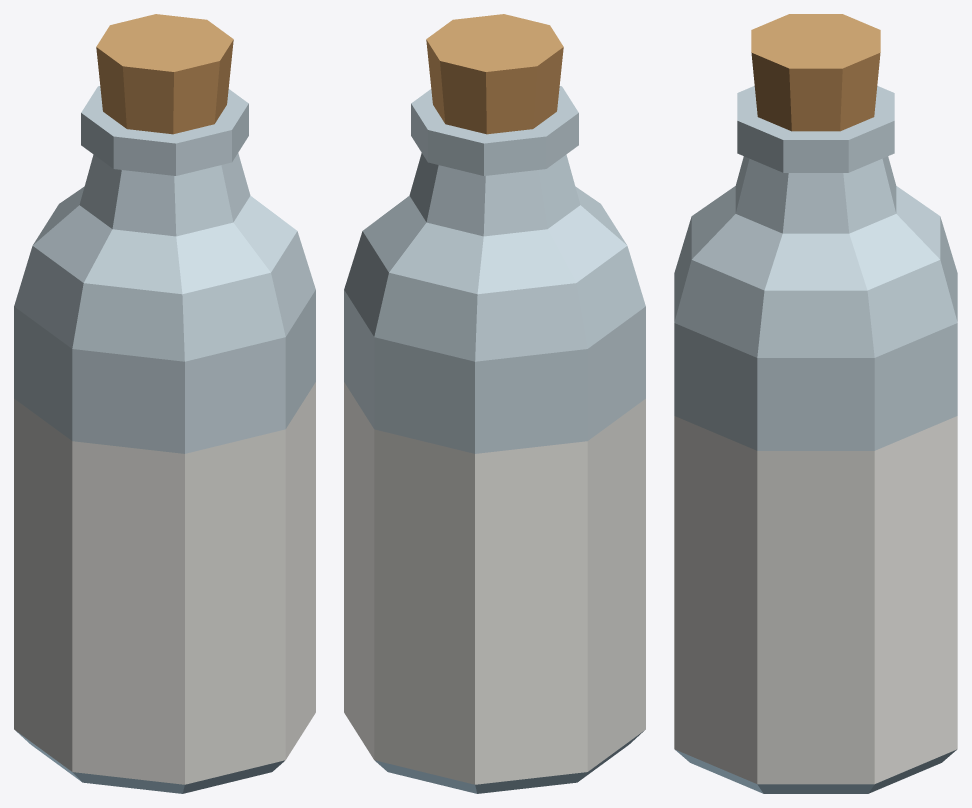
File: FMS_Food_Milk_Bottle.fbx
3 views of the same model, side by side, from view 1: azimuth 30°, elevation 25°; view 2: azimuth 150°, elevation 25°; view 3: azimuth 270°, elevation 25° (orthographic).
Parts seen in each view (by area): view 1: item_food_milk_bottle; view 2: item_food_milk_bottle; view 3: item_food_milk_bottle.
Part boxes in pixels (x1,y1,x2,y2): item_food_milk_bottle: (14, 14, 315, 793); item_food_milk_bottle: (344, 14, 645, 793); item_food_milk_bottle: (674, 14, 957, 793).
Size of the model in its own units: 0.0865 by 0.2355 by 0.0865.
Materials: 1 (1 with a texture image).
